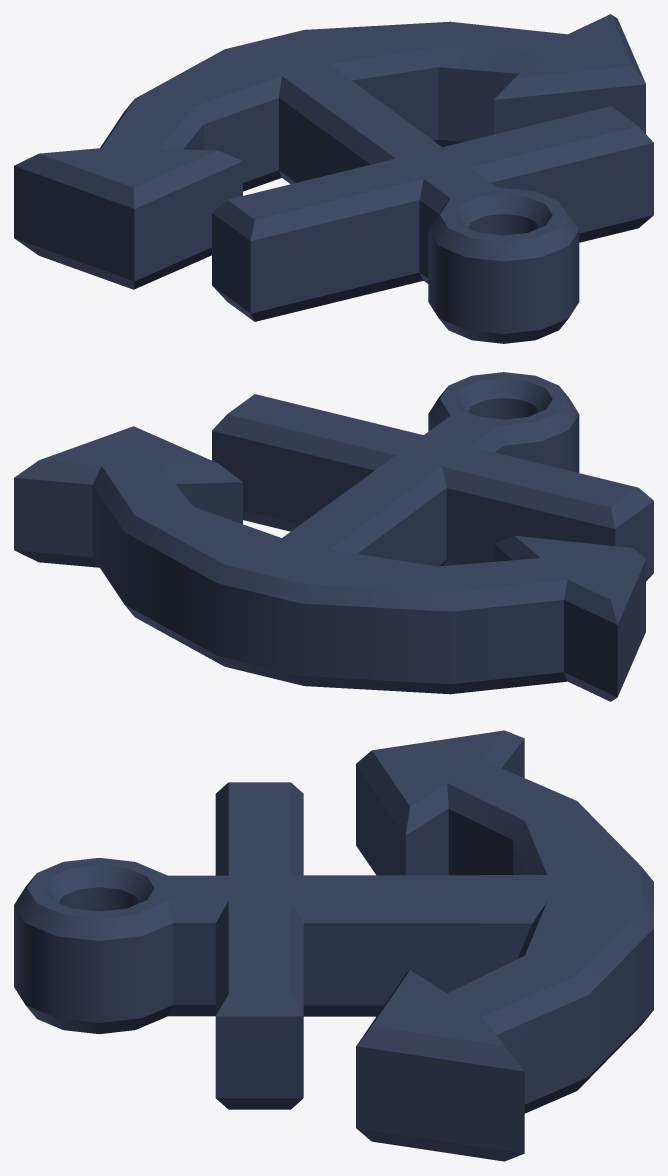
The model's file is Anchor.obj.
3 views of the same model, one above another, from view 1: azimuth 30°, elevation 25°; view 2: azimuth 150°, elevation 25°; view 3: azimuth 270°, elevation 25° (orthographic). The views are drawn at different scales.
Parts seen in each view (by area): view 1: Anchor; view 2: Anchor; view 3: Anchor.
Part boxes in pixels (x1,y1,x2,y2): Anchor: [14, 14, 653, 343]; Anchor: [14, 372, 653, 701]; Anchor: [14, 730, 653, 1161].
Bounding box in the file's own units: 1.52 × 0.2464 × 1.24.
